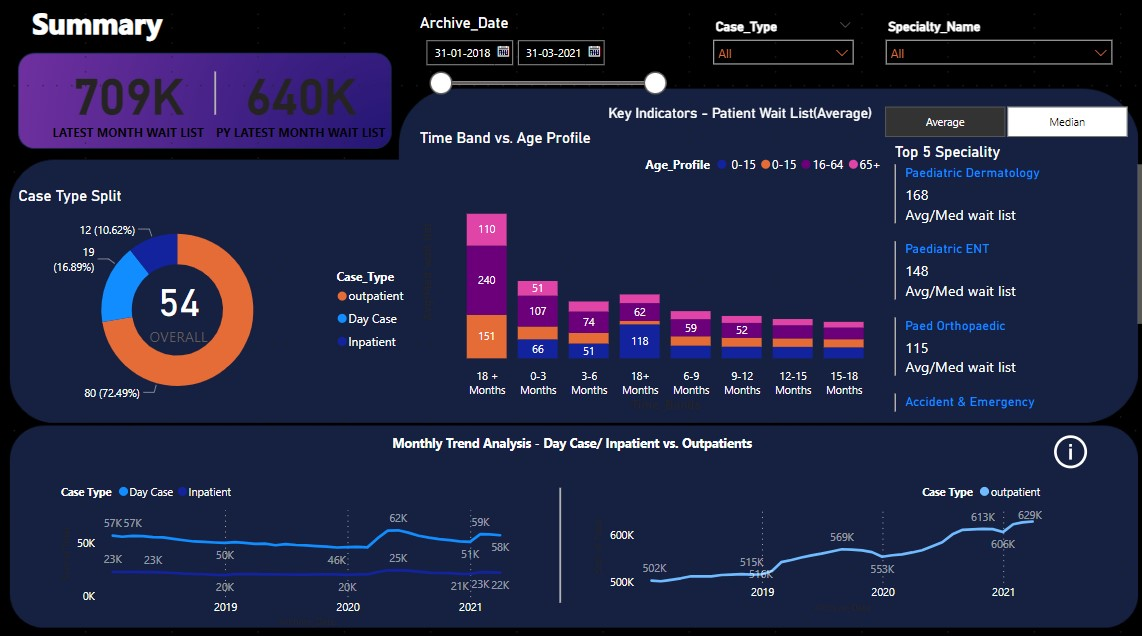

The dashboard page shown, as its layout file describes it:
{"tool":"powerbi","page":{"name":"Summary","canvas":[1280,720],"ordinal":0},"visuals":[{"type":"card","fields":{"Values":["All_data.latest month waiting list"]},"box":[32,48,224,128],"z":0},{"type":"card","fields":{"Values":["All_data.py month waiting list"]},"box":[224,48,224,128],"z":1000},{"type":"slicer","fields":{"Values":["Calcultion method.Calc Method"]},"box":[960,112,320,48],"z":2000},{"type":"donutChart","title":"Case Type Split","fields":{"Category":["All_data.Case_Type"],"Y":["All_data.Avg/Med wait list"]},"box":[16,208,448,256],"z":3000},{"type":"columnChart","title":"Time Band vs. Age Profile","fields":{"Y":["All_data.Avg/Med wait list"],"Category":["All_data.Time_Bands"],"Series":["All_data.Age_Profile"]},"box":[464,144,528,320],"z":4000},{"type":"multiRowCard","title":"Top 5 Speciality","fields":{"Values":["All_data.Avg/Med wait list","All_data.Specialty_Name"]},"box":[992,160,288,304],"z":5000},{"type":"lineChart","fields":{"Category":["All_data.Archive_Date"],"Y":["Sum(All_data.Total)"],"Series":["All_data.Case_Type"]},"box":[64,528,512,176],"z":6000},{"type":"slicer","title":"Archive_Date","fields":{"Values":["All_data.Archive_Date"]},"box":[464,16,288,96],"z":7000},{"type":"slicer","fields":{"Values":["All_data.Case_Type"]},"box":[784,16,176,96],"z":8000},{"type":"slicer","fields":{"Values":["All_data.Specialty_Name"]},"box":[976,16,272,96],"z":9000},{"type":"textbox","box":[32,0,240,64],"z":10000},{"type":"shape","box":[176,80,128,48],"z":11000},{"type":"card","fields":{"Values":["All_data.Avg/Med wait list"]},"box":[96,224,208,240],"z":12000},{"type":"textbox","box":[432,480,432,48],"z":13000},{"type":"shape","box":[560,544,128,128],"z":14000},{"type":"card","fields":{"Values":["All_data.Dynamic Title"]},"box":[656,96,336,64],"z":15000},{"type":"card","fields":{"Values":["All_data.NoDataLeft"]},"box":[144,544,400,128],"z":16000},{"type":"card","fields":{"Values":["All_data.NoDataRight"]},"box":[704,544,400,128],"z":17000},{"type":"lineChart","fields":{"Category":["All_data.Archive_Date"],"Y":["Sum(All_data.Total)"],"Series":["All_data.Case_Type"]},"box":[656,528,512,160],"z":18000},{"type":"actionButton","box":[1168,480,64,48],"z":19000}]}

Visuals, with their boxes in screenshot pixels (x1, y1, x2, y2), scaled from the page's 1280x720 canvas onto the 1142x636 screenshot:
card - All_data.latest month waiting list: 29:42:228:155
card - All_data.py month waiting list: 200:42:400:155
slicer - Calcultion method.Calc Method: 856:99:1141:141
"Case Type Split" donutChart: 14:184:414:410
"Time Band vs. Age Profile" columnChart: 414:127:885:410
"Top 5 Speciality" multiRowCard: 885:141:1141:410
lineChart - All_data.Archive_Date x Sum(All_data.Total): 57:466:514:622
"Archive_Date" slicer: 414:14:671:99
slicer - All_data.Case_Type: 699:14:856:99
slicer - All_data.Specialty_Name: 871:14:1113:99
textbox: 29:0:243:57
shape: 157:71:271:113
card - All_data.Avg/Med wait list: 86:198:271:410
textbox: 385:424:771:466
shape: 500:481:614:594
card - All_data.Dynamic Title: 585:85:885:141
card - All_data.NoDataLeft: 128:481:485:594
card - All_data.NoDataRight: 628:481:985:594
lineChart - All_data.Archive_Date x Sum(All_data.Total): 585:466:1042:608
actionButton: 1042:424:1099:466
